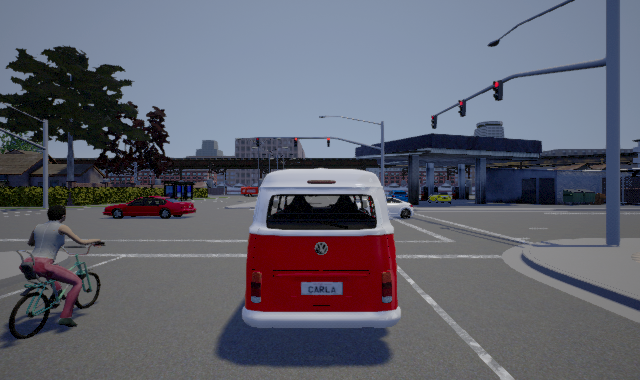bike: (5, 198, 108, 340)
traffic_light: (493, 80, 503, 101), (458, 99, 466, 117), (431, 115, 437, 129), (256, 137, 260, 147), (327, 137, 330, 147), (294, 137, 297, 147)
vehicle: (241, 167, 403, 328), (102, 196, 197, 219), (351, 193, 413, 222)
